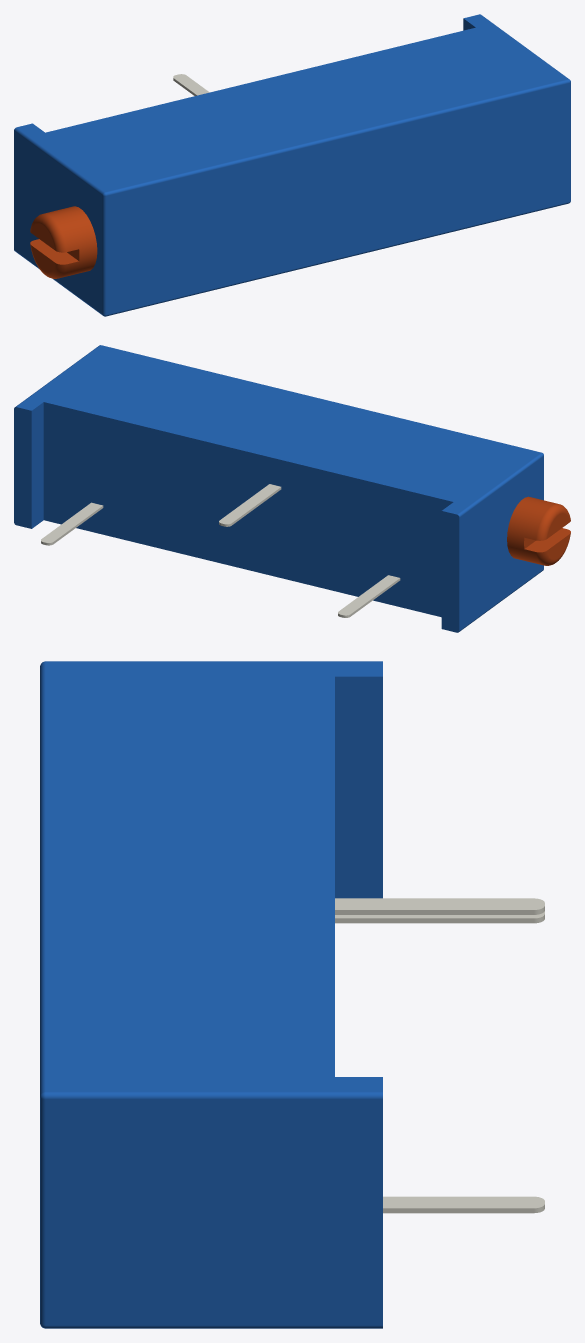
Rendered from Potentiometer_Bourns_3006P.glb.
The picture shows the model from 3 angles, top to bottom: view 1: azimuth 30°, elevation 25°; view 2: azimuth 150°, elevation 25°; view 3: azimuth 270°, elevation 25°; orthographic projection. The views are drawn at different scales.
Visible parts, largest first — view 1: Bourns_3006P; view 2: Bourns_3006P; view 3: Bourns_3006P.
Boxes of the visible parts, bbox=[...] form: Bourns_3006P: bbox=[14, 14, 570, 316]; Bourns_3006P: bbox=[14, 345, 570, 632]; Bourns_3006P: bbox=[40, 661, 544, 1328].
Size of the model in its own units: 0.0206 by 0.00483 by 0.00935.
